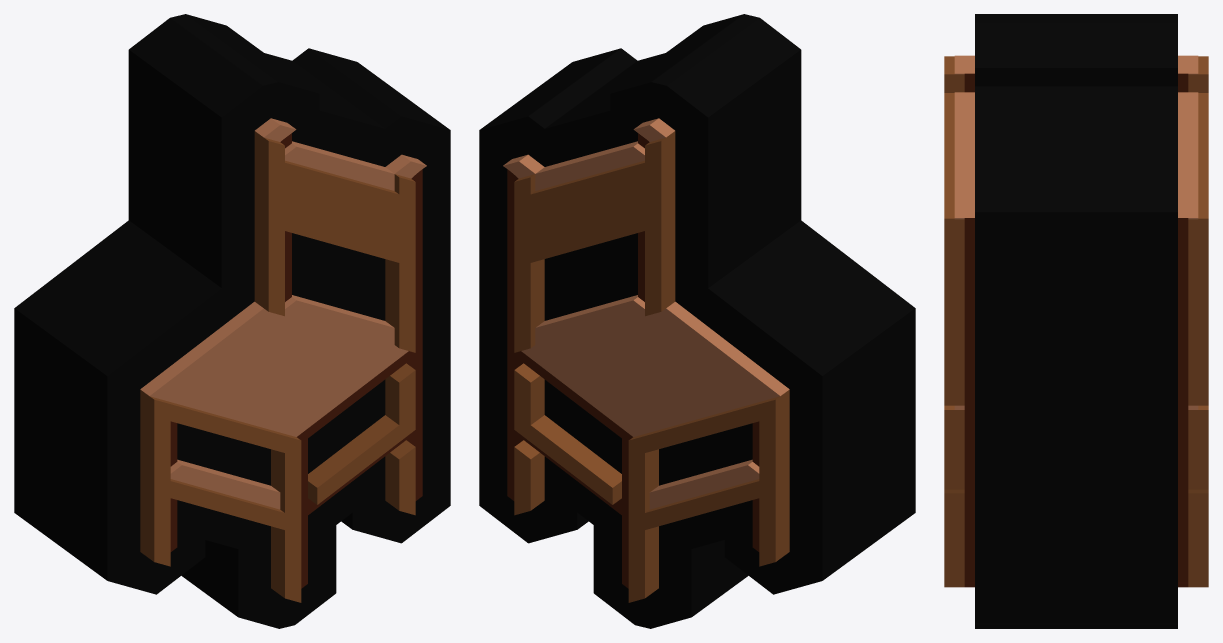
The picture shows the model from 3 angles, left to right: view 1: azimuth 30°, elevation 25°; view 2: azimuth 150°, elevation 25°; view 3: azimuth 270°, elevation 25°; orthographic projection. The views are drawn at different scales.
Visible parts, largest first — view 1: U+1FA91_layer00_obj00, U+1FA91_layer03_obj00, U+1FA91_layer02_obj00, U+1FA91_layer01_obj00; view 2: U+1FA91_layer00_obj00, U+1FA91_layer03_obj00, U+1FA91_layer02_obj00, U+1FA91_layer01_obj00; view 3: U+1FA91_layer00_obj00, U+1FA91_layer03_obj00, U+1FA91_layer01_obj00, U+1FA91_layer02_obj00.
Boxes of the visible parts, x1,y1,x2,y2 form: U+1FA91_layer00_obj00: (14,14,450,628); U+1FA91_layer03_obj00: (140,131,415,602); U+1FA91_layer02_obj00: (140,118,426,509); U+1FA91_layer01_obj00: (170,133,422,588); U+1FA91_layer00_obj00: (479,14,915,628); U+1FA91_layer03_obj00: (514,131,789,602); U+1FA91_layer02_obj00: (503,118,789,509); U+1FA91_layer01_obj00: (507,133,759,588); U+1FA91_layer00_obj00: (975,14,1177,628); U+1FA91_layer03_obj00: (944,56,1208,587); U+1FA91_layer01_obj00: (964,73,1188,587); U+1FA91_layer02_obj00: (954,55,1198,409).
Bounding box in the file's own units: 0.4259 × 0.649 × 0.26.
